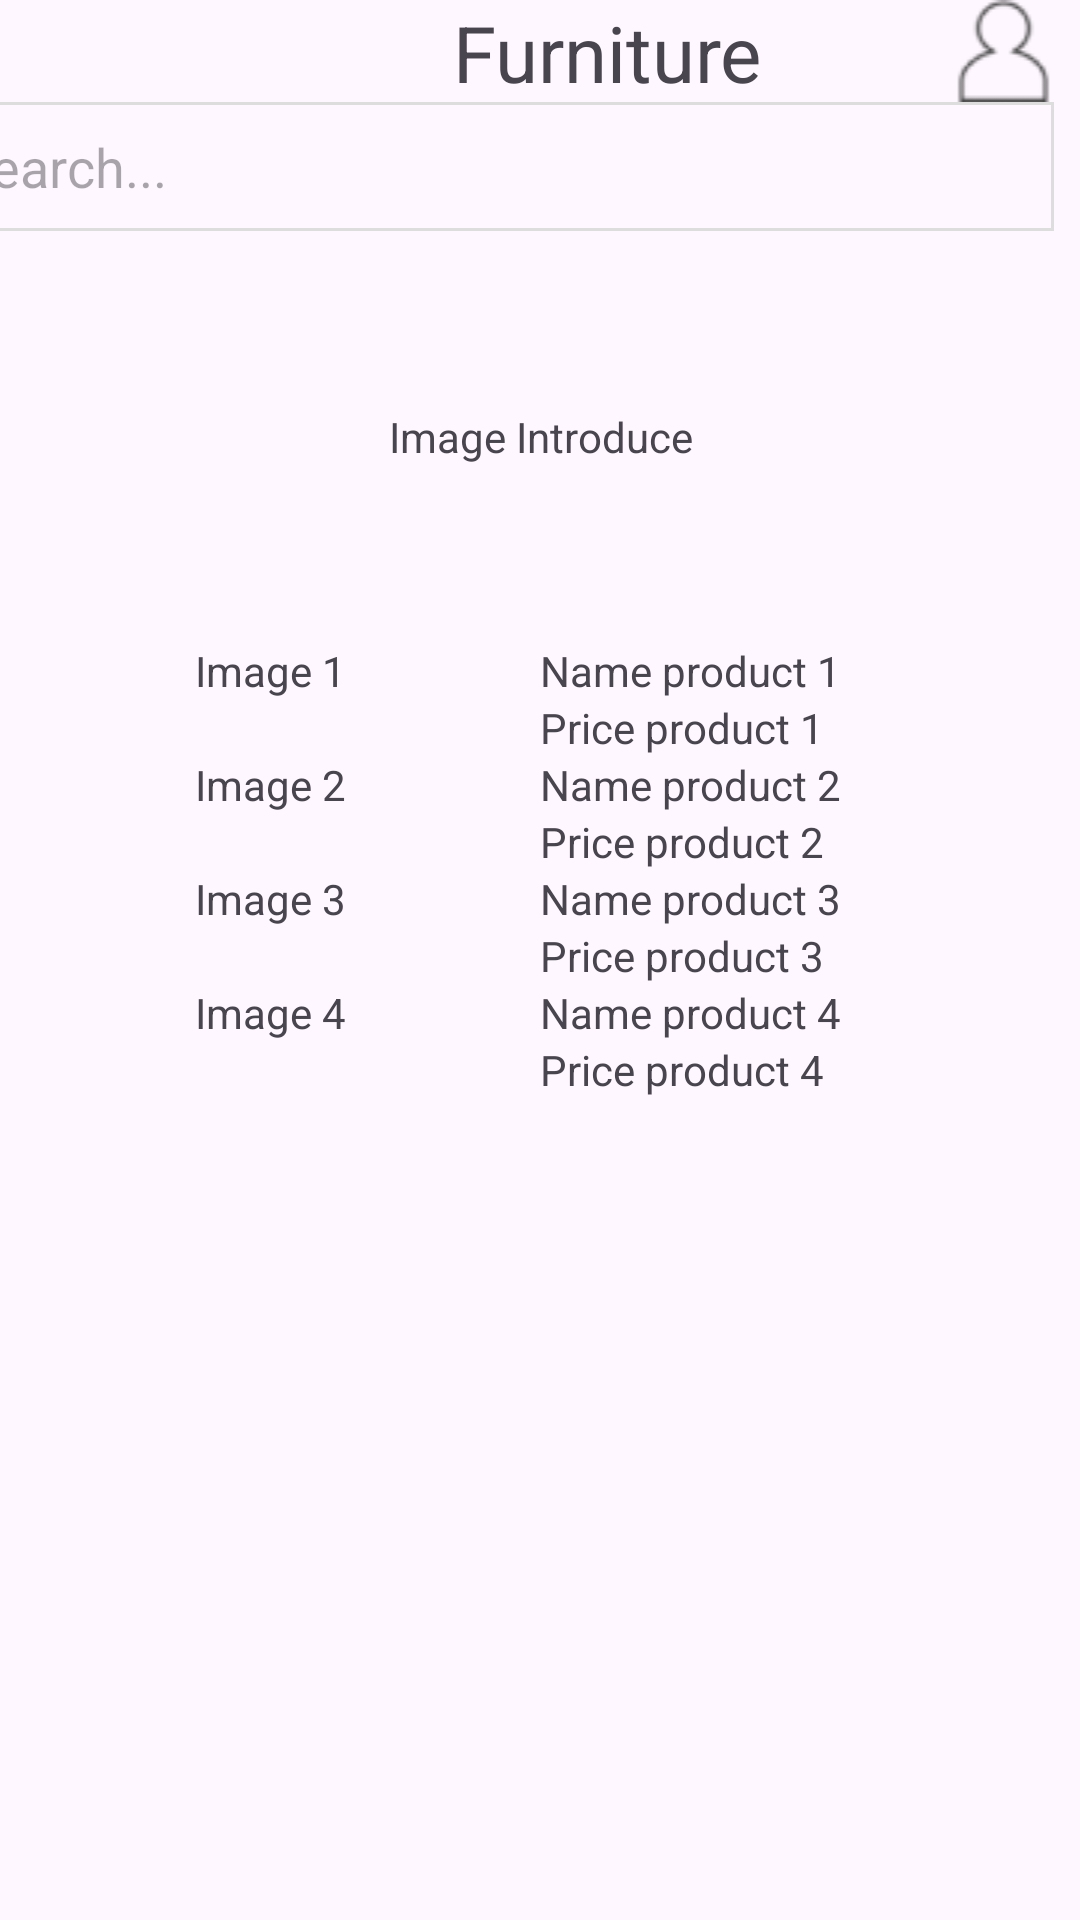

Point at icon controls on the screen. Image size 1080x1920, points as (x,y).
user: (1003,51)
